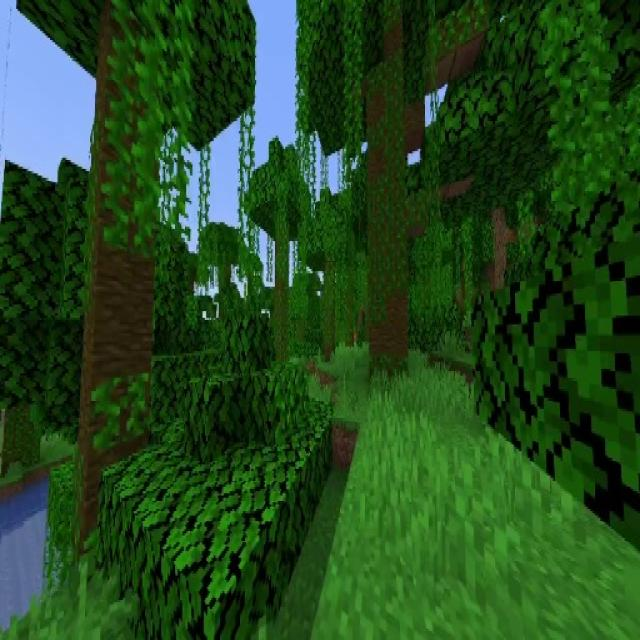jungle: (252, 136, 313, 362), (305, 187, 355, 364)
jungle_log: (83, 69, 156, 462), (369, 59, 411, 384), (276, 221, 289, 364), (324, 267, 335, 358)
oak_log: (492, 211, 506, 290)
